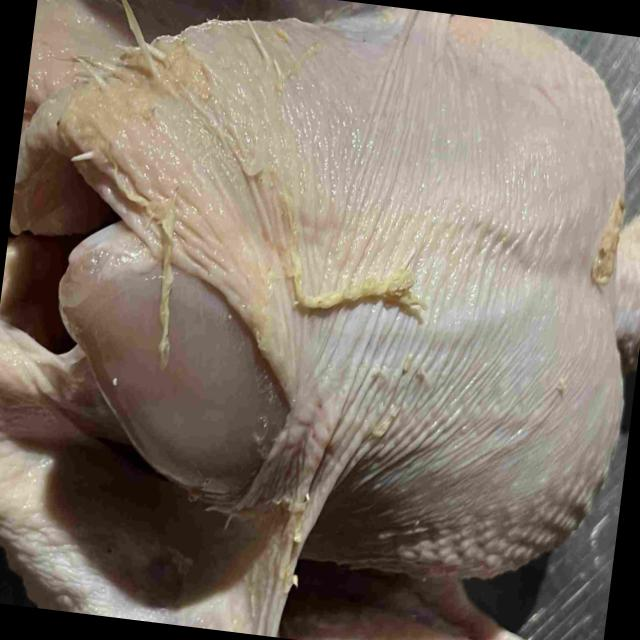breast: (68, 9, 626, 579)
leg: (26, 502, 299, 638)
neck: (614, 210, 640, 380)
wing: (411, 577, 520, 640), (281, 609, 432, 640)
